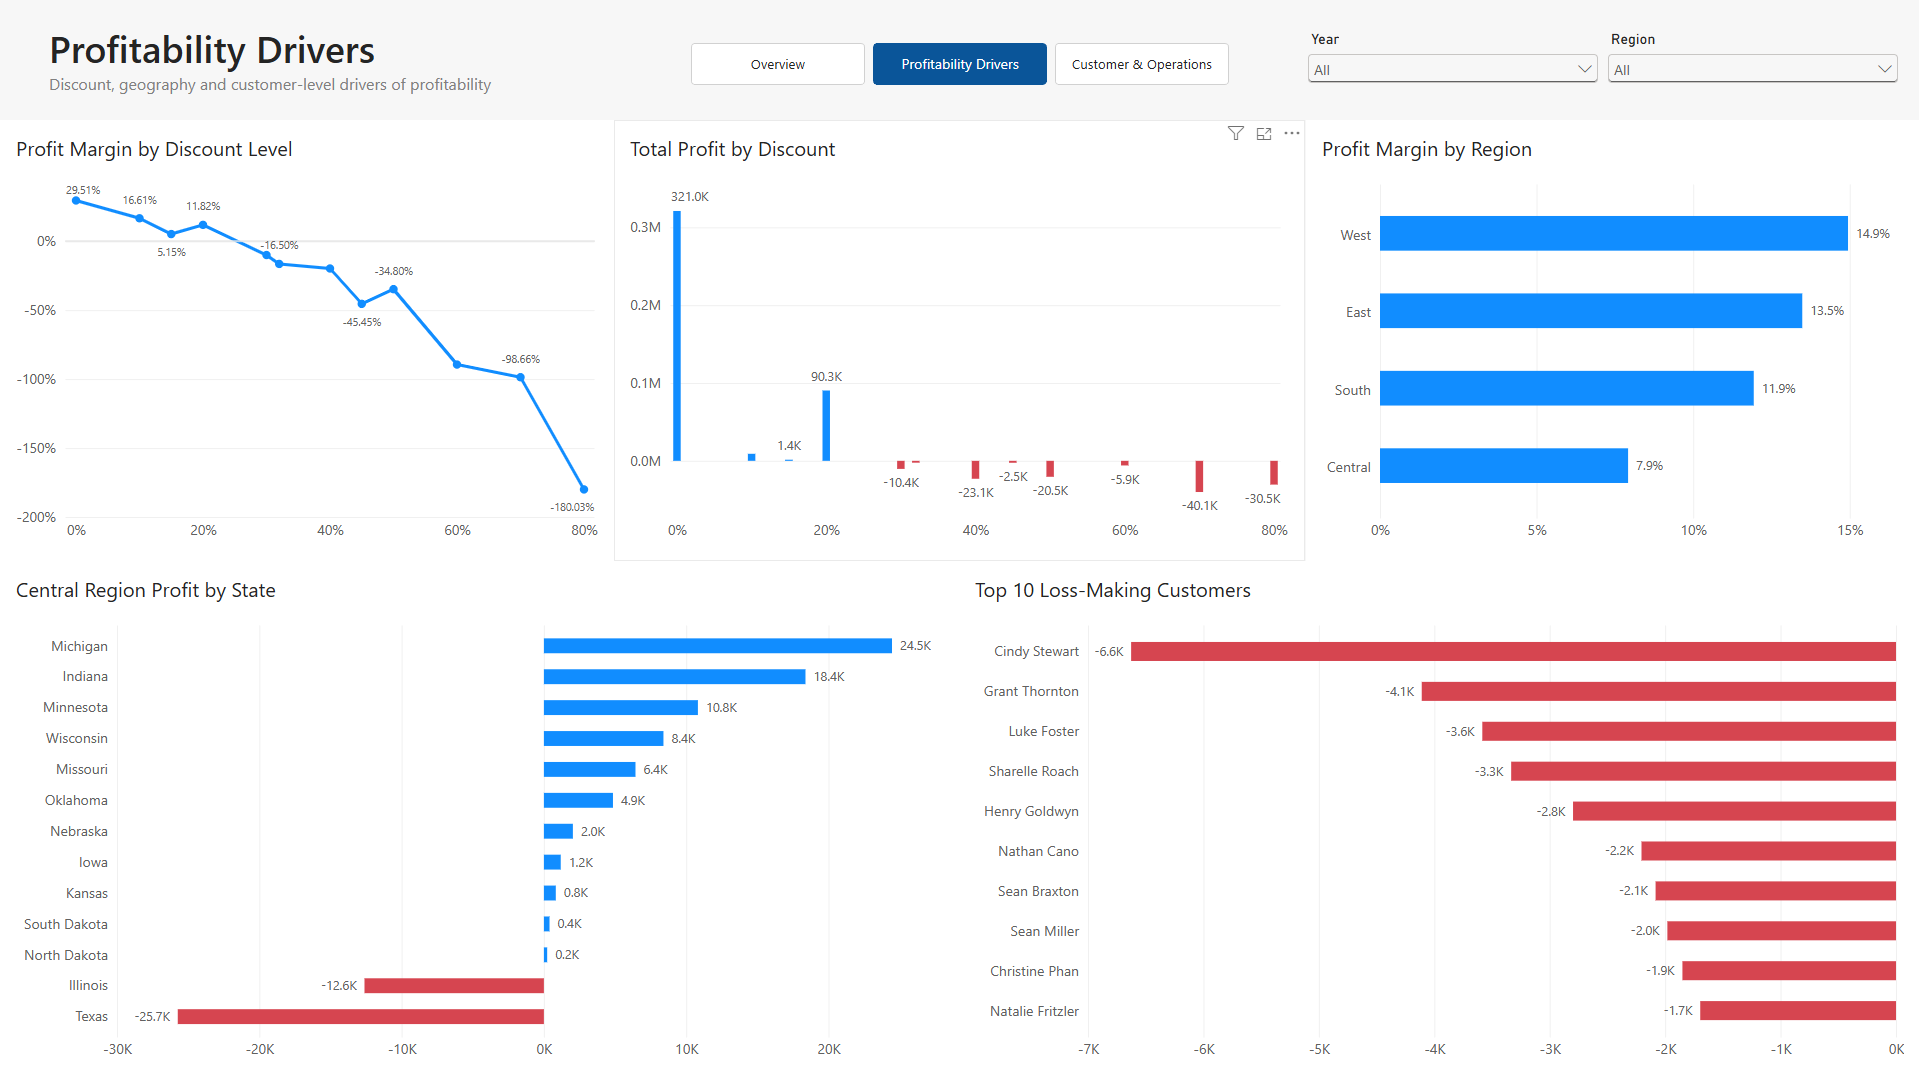

The dashboard page shown, as its layout file describes it:
{"tool":"powerbi","page":{"name":"Profitability Drivers","canvas":[1920,1080],"ordinal":1},"visuals":[{"type":"lineChart","title":"Profit Margin by Discount Level","fields":{"Category":["Sales_Data.Discount"],"Y":["Sales_Data.Profit Margin"]},"box":[0,120,614.3,441.4],"z":0},{"type":"columnChart","fields":{"Category":["Sales_Data.Discount"],"Y":["Sales_Data.Total Profit"]},"box":[614,120,691.4,441.4],"z":1000},{"type":"barChart","fields":{"Category":["Sales_Data.Region"],"Y":["Sales_Data.Profit Margin"]},"box":[1306,120,614.3,441.4],"z":2000},{"type":"barChart","title":"Central Region Profit by State","fields":{"Category":["Sales_Data.State"],"Y":["Sales_Data.Total Profit"]},"box":[0,561.4,958.6,518.6],"z":3000},{"type":"barChart","title":"Top 10 Loss-Making Customers","fields":{"Category":["Sales_Data.Customer_Name"],"Y":["Sales_Data.Total Profit"]},"box":[958.6,561.4,961.4,518.6],"z":4000},{"type":"pageNavigator","box":[691,43,538,42],"z":5000},{"type":"slicer","fields":{"Values":["Date_Table.Year"]},"box":[1303,31,300,65.7],"z":6000},{"type":"slicer","fields":{"Values":["Sales_Data.Region"]},"box":[1603,31,300,66],"z":7000},{"type":"textbox","box":[49,23,507,50],"z":8000},{"type":"textbox","box":[49,73,602,24],"z":9000}]}

Visuals, with their boxes in screenshot pixels (x1, y1, x2, y2), scaled from the page's 1920x1080 canvas onto the 1919x1077 screenshot:
"Profit Margin by Discount Level" lineChart: region(0, 120, 614, 560)
columnChart - Sales_Data.Discount x Sales_Data.Total Profit: region(614, 120, 1305, 560)
barChart - Sales_Data.Region x Sales_Data.Profit Margin: region(1305, 120, 1918, 560)
"Central Region Profit by State" barChart: region(0, 560, 958, 1076)
"Top 10 Loss-Making Customers" barChart: region(958, 560, 1918, 1076)
pageNavigator: region(691, 43, 1228, 85)
slicer - Date_Table.Year: region(1302, 31, 1602, 96)
slicer - Sales_Data.Region: region(1602, 31, 1902, 97)
textbox: region(49, 23, 556, 73)
textbox: region(49, 73, 651, 97)
